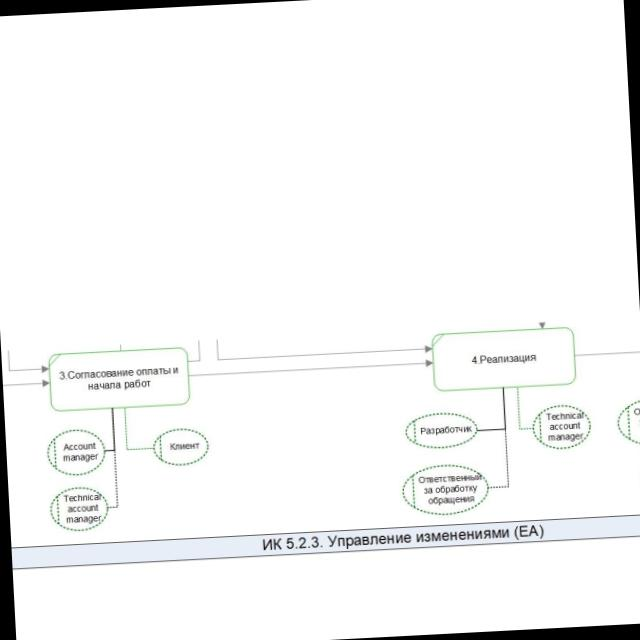arrow: (189, 357, 433, 381)
rectangle: (431, 326, 576, 392), (48, 347, 191, 412)
